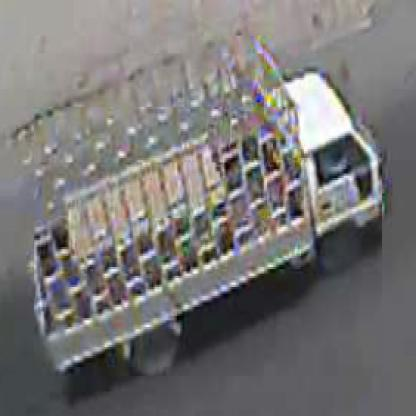truck: (34, 55, 383, 380)
